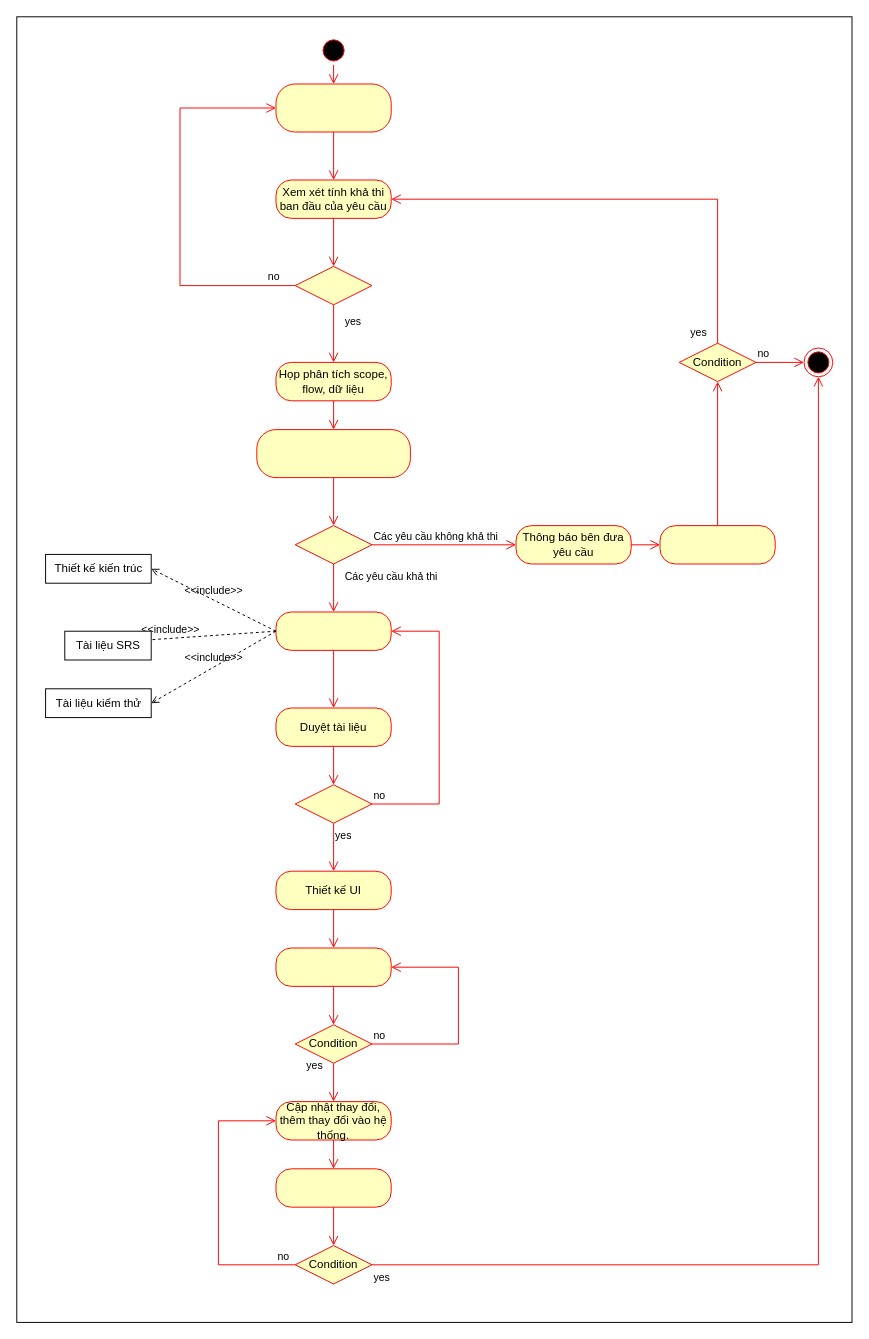
This 869x1339 diagram has some shape labels left out. The shapes that lost their labels are listed below. From the top down, each one's centre as x and y in pixels, then its label:
At point (333, 107): "Lấy yêu cầu/thay đổi yêu cầu".
At point (333, 453): "Phân loại tính khả thi, định lượng các yêu cầu".
At point (717, 544): "Có thay đổi yêu cầu".
At point (333, 630): "Lập tài liệu".
At point (333, 966): "Duyệt UI".
At point (333, 1187): "Testing".
